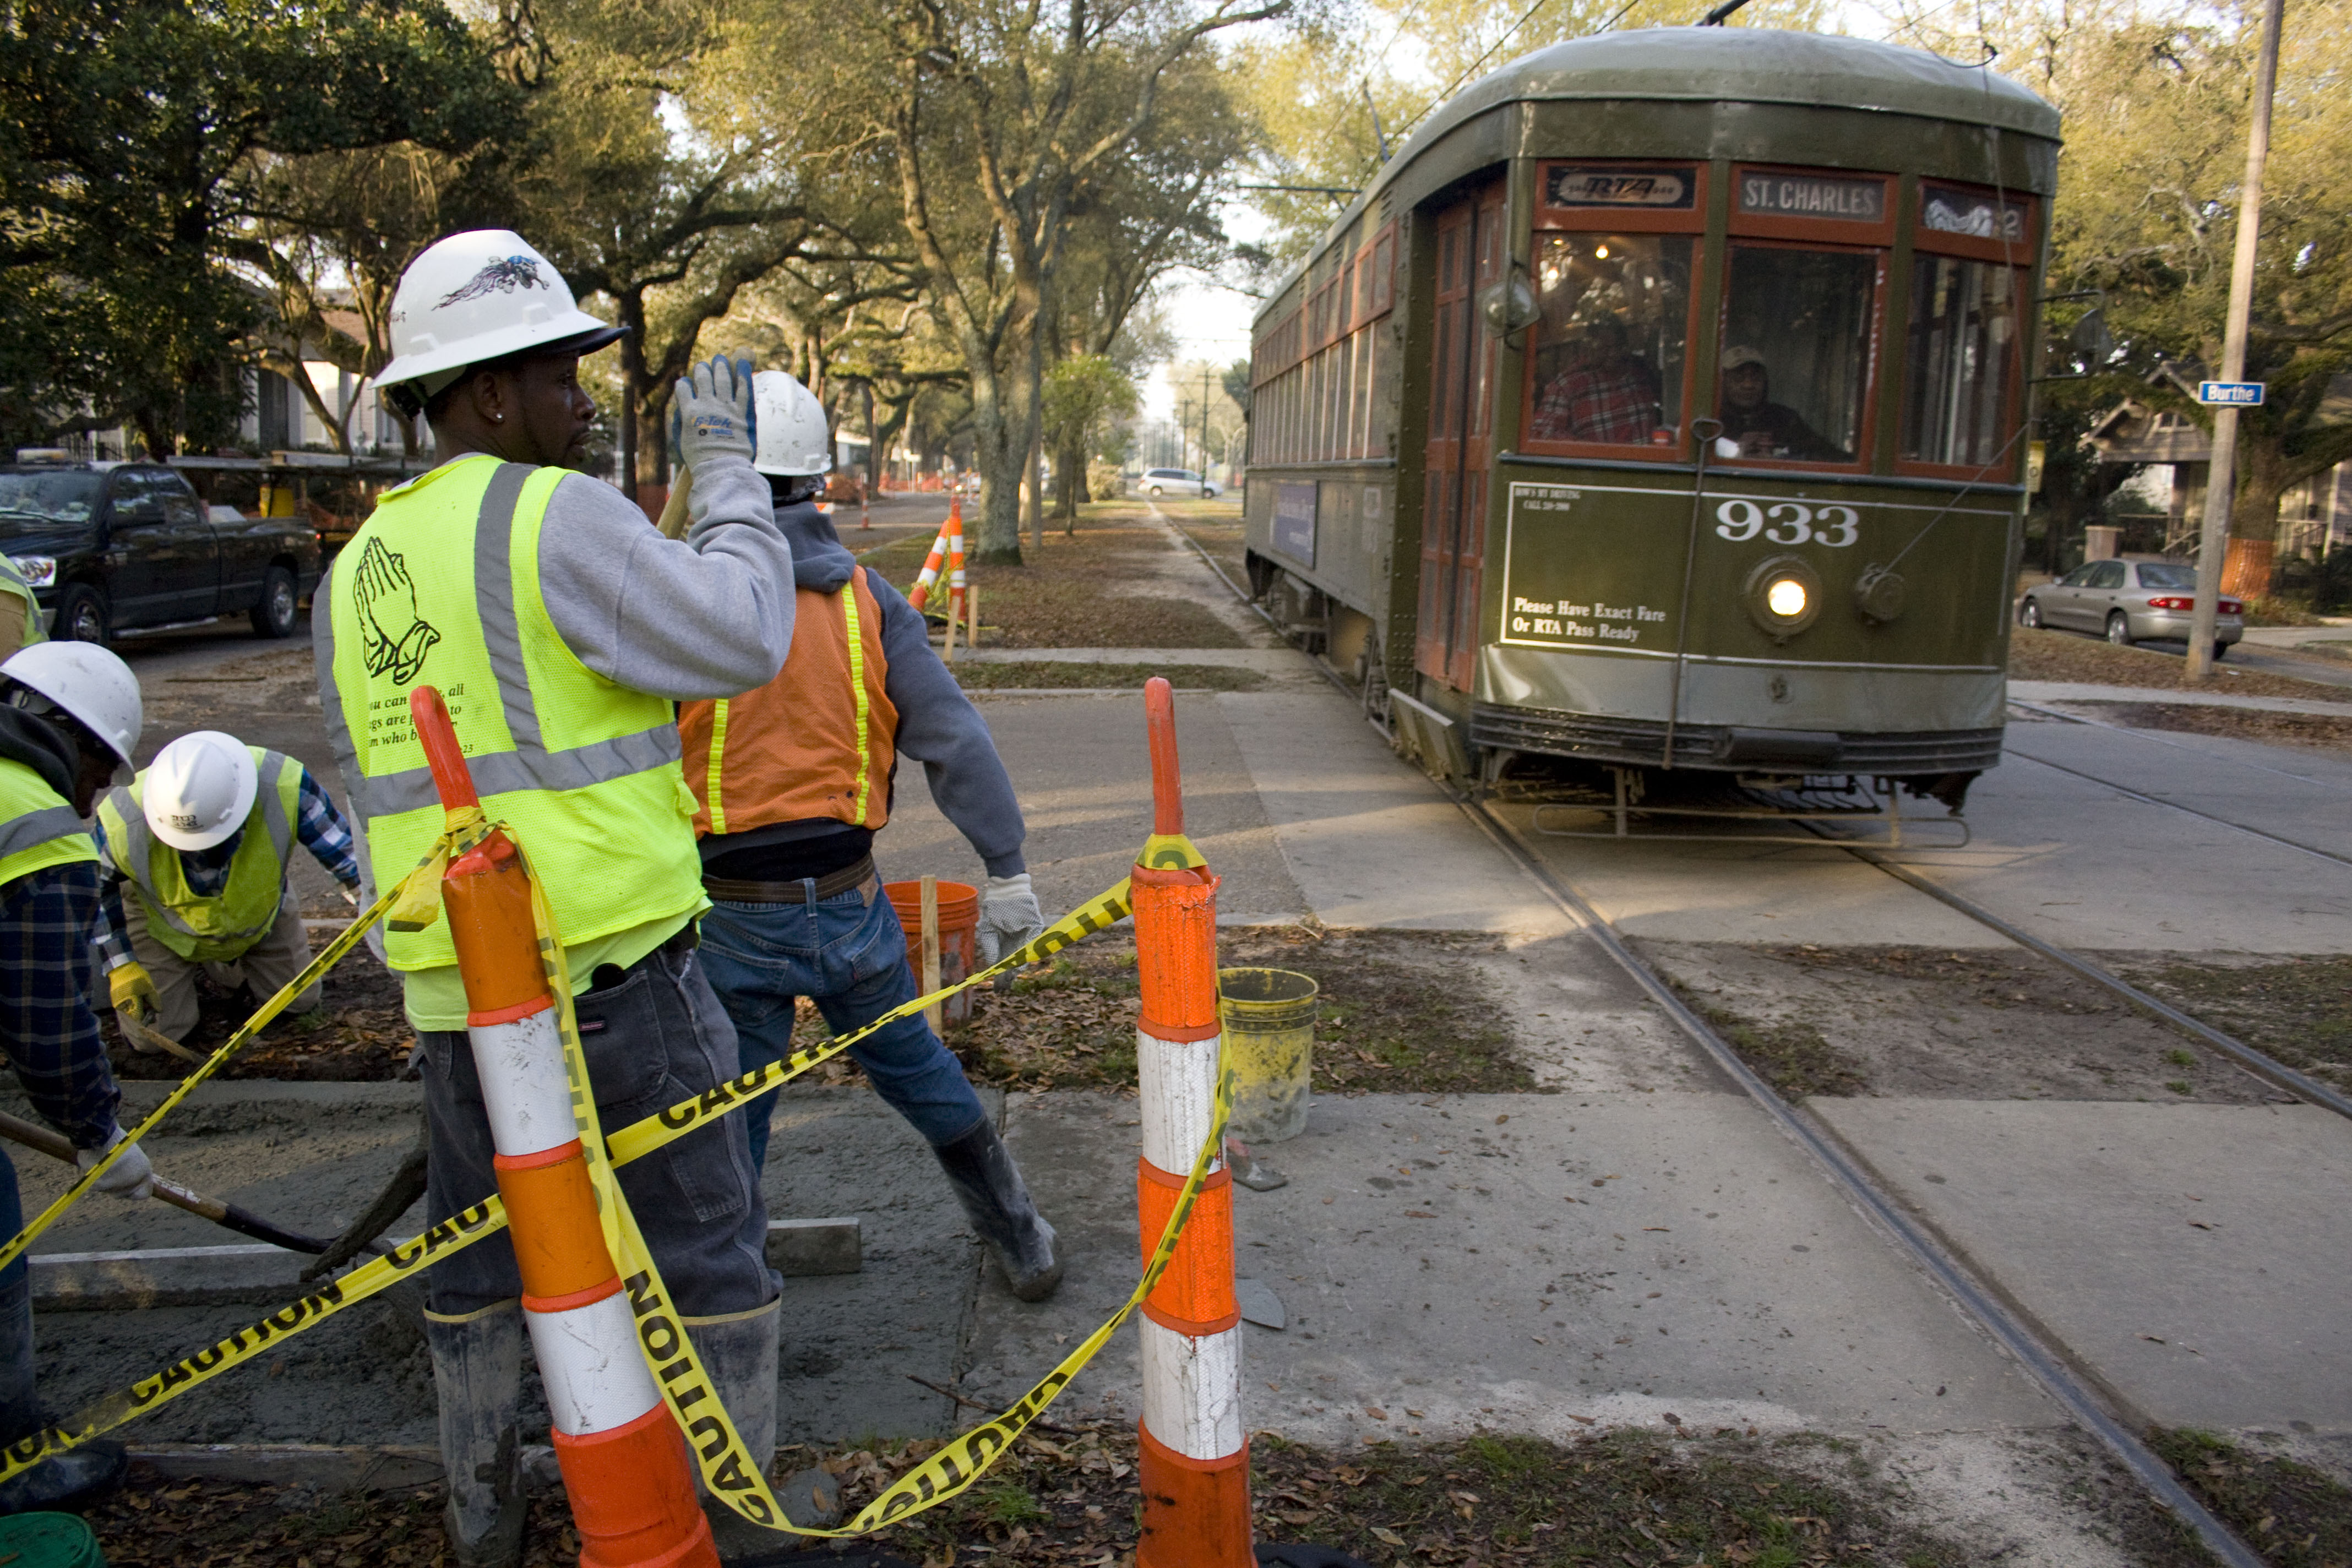Hard Hat: (370, 242, 625, 474), (1, 649, 141, 813), (726, 367, 837, 527), (139, 734, 270, 857)
Person: (338, 238, 799, 1544), (678, 377, 1062, 1291), (1, 648, 154, 1436), (117, 727, 360, 1047), (1535, 308, 1659, 442), (1724, 341, 1844, 463)
Vest: (336, 350, 715, 978), (680, 449, 906, 851), (94, 747, 322, 972), (1, 677, 130, 931)
